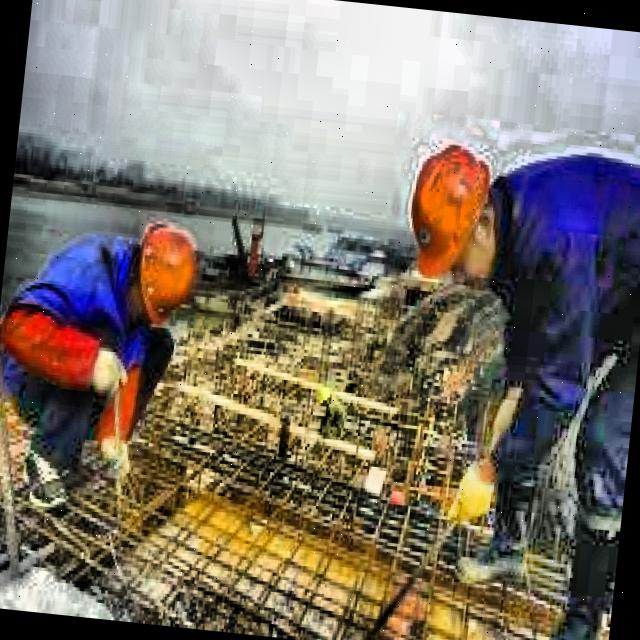helmet: (399, 134, 508, 292), (124, 208, 208, 331)
